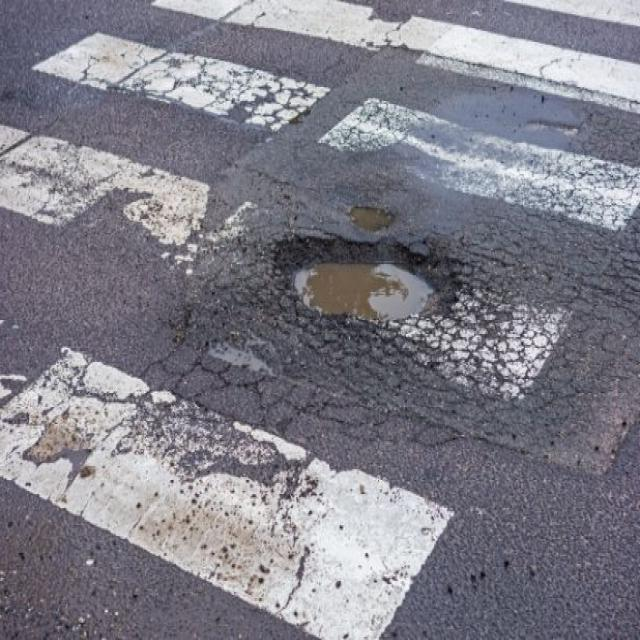Pothole: (268, 221, 462, 328)
